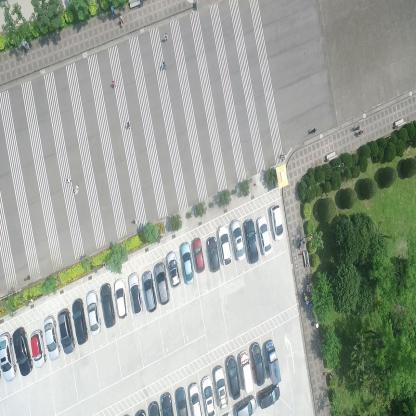car: (12, 326, 33, 377), (42, 314, 61, 362), (264, 337, 282, 386), (0, 331, 17, 381), (57, 307, 75, 354), (72, 297, 89, 346), (98, 282, 115, 328), (243, 216, 259, 264), (230, 216, 246, 262), (213, 364, 229, 410), (128, 271, 144, 316), (86, 288, 101, 336), (250, 339, 265, 387), (141, 270, 157, 314), (238, 350, 254, 393), (226, 354, 241, 399), (154, 260, 169, 304), (30, 329, 46, 370), (202, 374, 218, 415), (217, 223, 232, 266), (180, 239, 194, 283), (258, 382, 280, 410), (257, 214, 272, 255), (113, 279, 127, 320), (270, 204, 284, 243), (188, 381, 204, 415), (166, 249, 180, 287), (207, 235, 220, 272), (234, 394, 256, 415), (192, 234, 204, 272), (175, 386, 189, 415), (161, 390, 173, 415)
